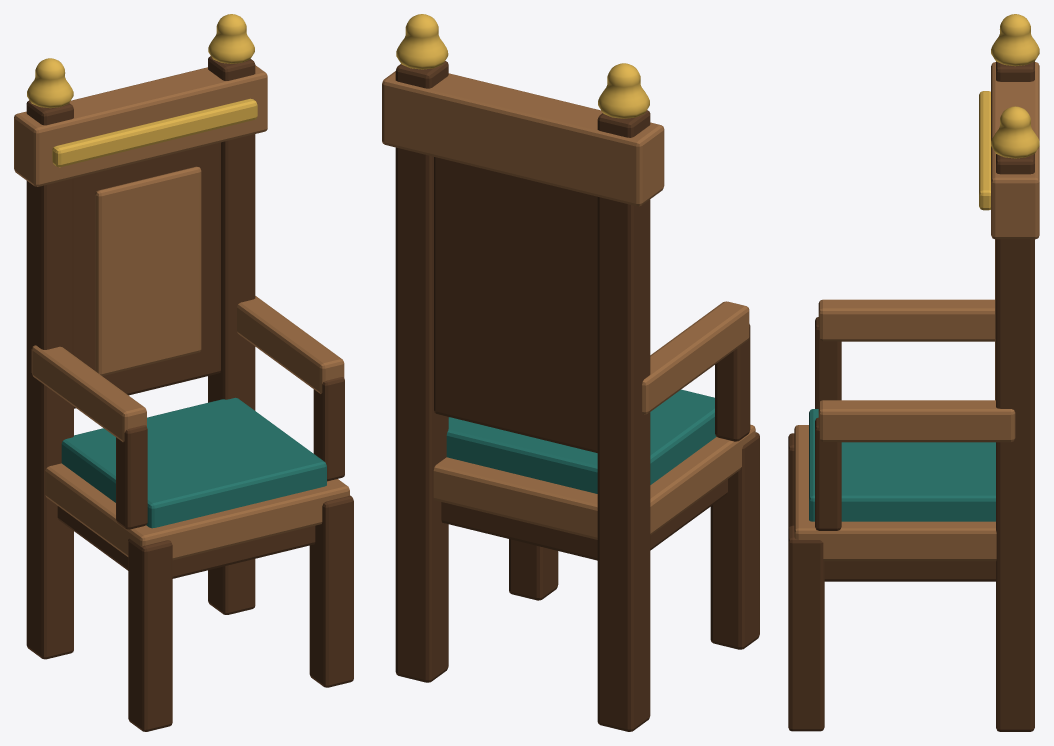
The model's file is hall-chair.glb.
3 views of the same model, side by side, from view 1: azimuth 30°, elevation 25°; view 2: azimuth 150°, elevation 25°; view 3: azimuth 270°, elevation 25° (orthographic). The views are drawn at different scales.
Visible parts, largest first — view 1: HallChair; view 2: HallChair; view 3: HallChair.
Boxes of the visible parts, box(x1,y1,x2,y2) form: HallChair: box(14, 14, 353, 731); HallChair: box(382, 14, 759, 731); HallChair: box(788, 14, 1039, 731).
Size of the model in its own units: 0.58 by 1.4 by 0.5177.
